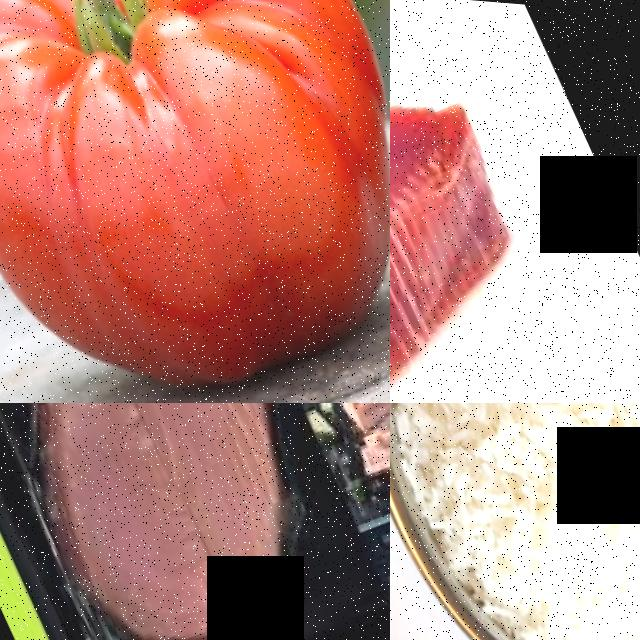tomato: (0, 0, 390, 403)
tuna: (390, 0, 585, 403), (0, 403, 238, 640), (48, 403, 321, 530)
white rice: (395, 403, 640, 640)
